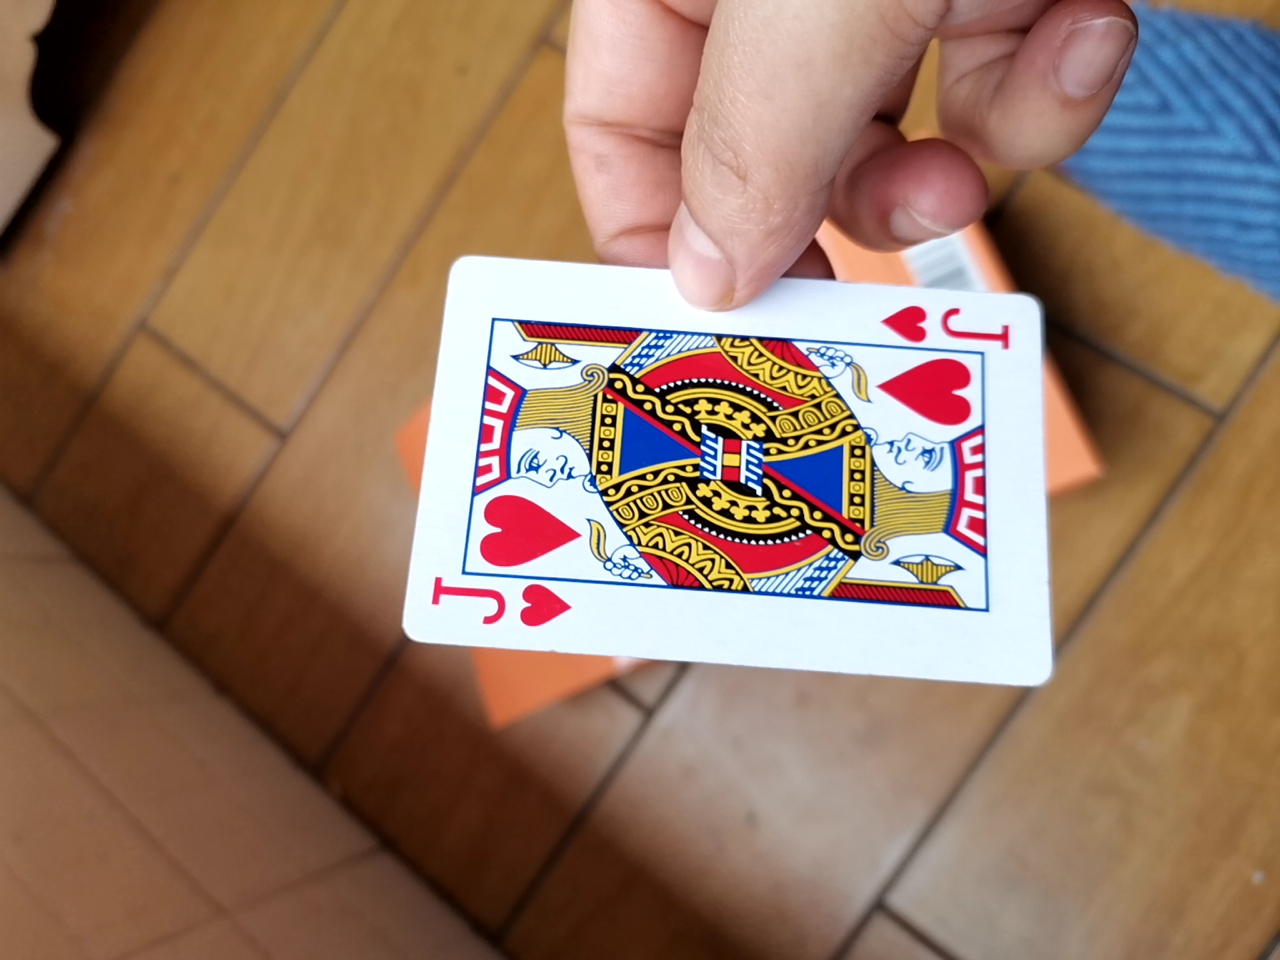hx j: (387, 254, 1066, 691)
